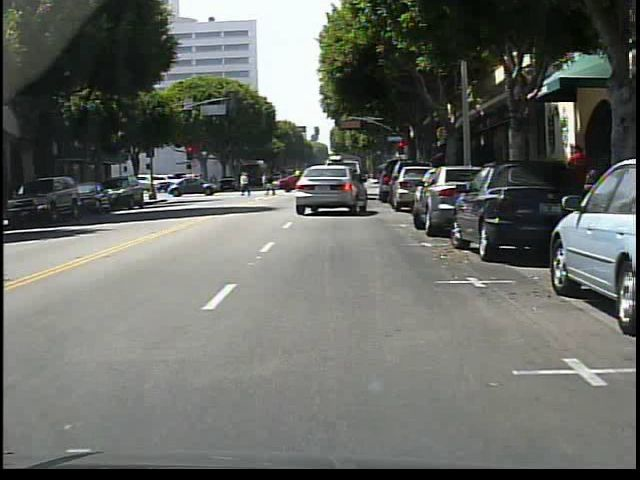person: (566, 142, 594, 220), (240, 172, 254, 196), (267, 169, 279, 197), (264, 174, 265, 190)
